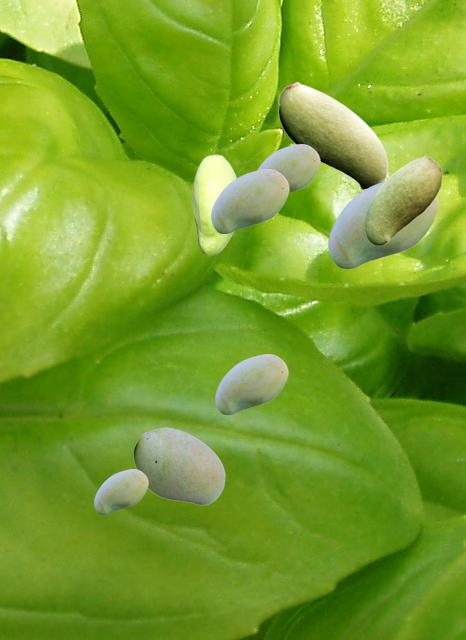green_mango: (278, 81, 387, 189), (328, 180, 437, 267), (133, 427, 224, 504), (364, 155, 441, 244), (211, 169, 288, 232), (192, 154, 236, 254), (215, 354, 287, 413), (257, 144, 319, 193), (94, 469, 147, 513)
